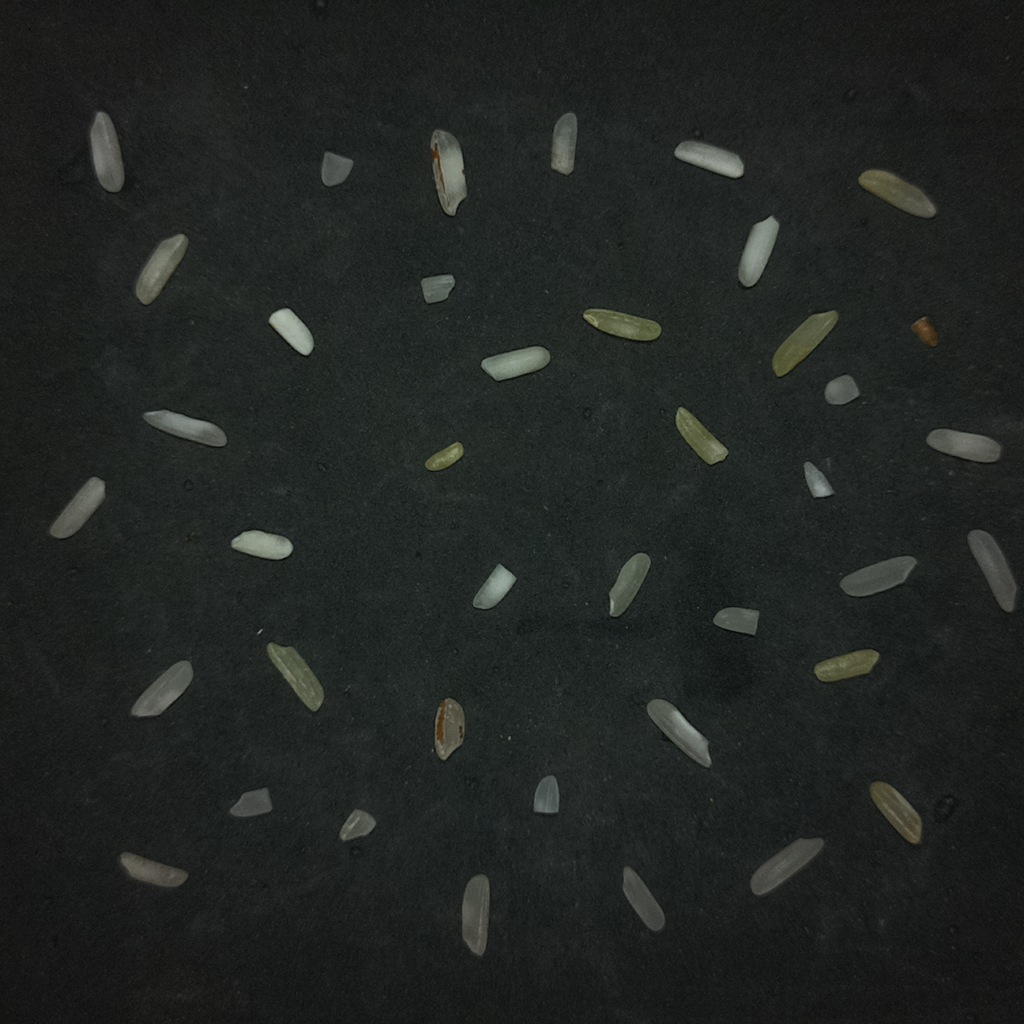broken: (472, 563, 516, 609), (232, 530, 291, 559), (229, 787, 272, 817), (713, 607, 758, 635), (339, 808, 376, 841), (321, 151, 353, 186), (803, 461, 833, 497), (824, 375, 859, 405), (533, 775, 559, 814), (421, 274, 455, 303)
chalky: (738, 216, 778, 287), (674, 140, 743, 178), (926, 428, 1001, 462), (481, 346, 550, 380), (268, 307, 313, 355)
damaged: (583, 308, 661, 341), (551, 112, 577, 174), (425, 442, 463, 471)
discolored: (772, 310, 839, 377), (266, 642, 323, 711), (858, 169, 936, 218), (135, 233, 188, 304), (869, 781, 922, 844), (675, 407, 727, 464), (813, 649, 879, 682)
foreign: (911, 317, 938, 347)
red: (430, 129, 466, 215), (435, 697, 464, 760)
whole: (647, 699, 710, 767), (750, 838, 823, 894), (968, 530, 1016, 611), (131, 660, 192, 717), (48, 477, 104, 538), (840, 555, 917, 597), (143, 409, 226, 446), (622, 865, 664, 931), (90, 111, 123, 192), (609, 552, 650, 616), (118, 852, 186, 887), (461, 874, 489, 956)
